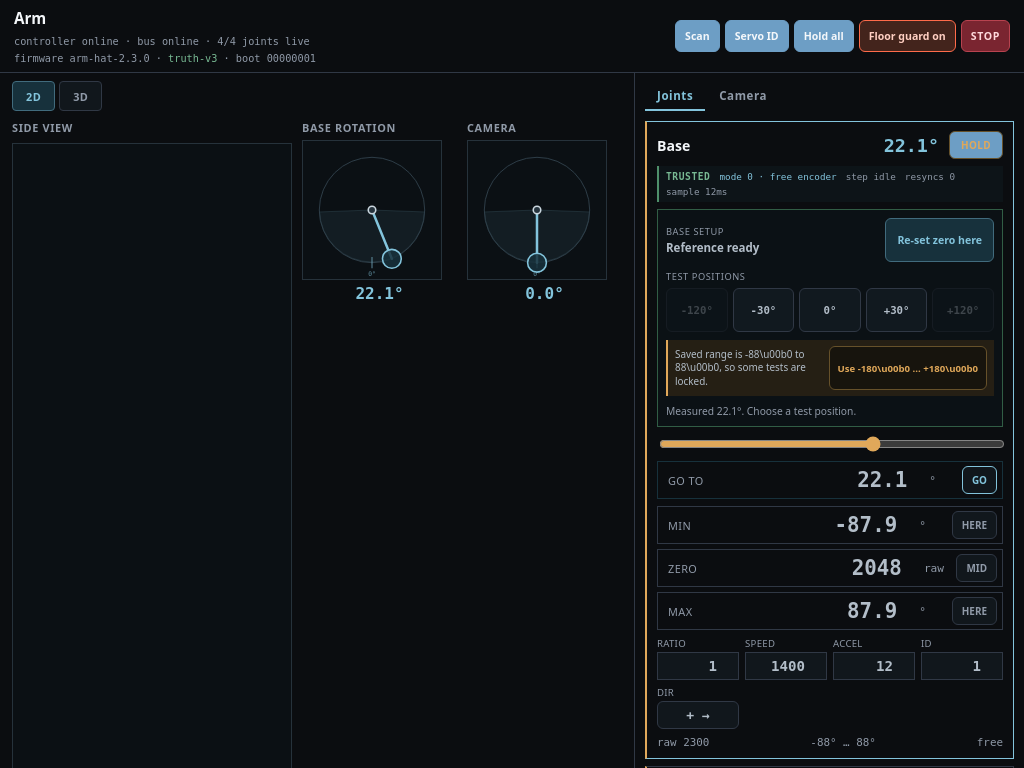
Scenario: SimpleArm › offers a one-click range repair when the saved Base range cannot reach both test sides
This screenshot has width=1024, height=768.
Click the button with aria-label "Set Base range to minus 180 through plus 180 degrees" at (908, 368), box x1=828 y1=346 x2=987 y2=390
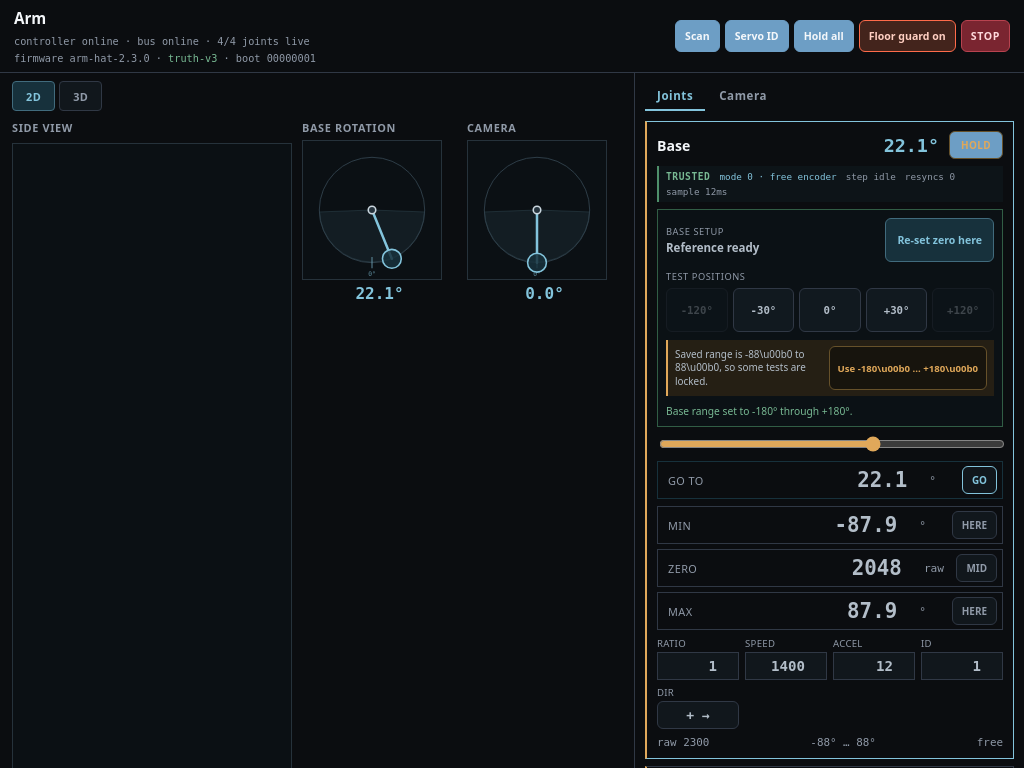
Check: the text "Base range set to -180° through +180°." is shown, box x1=666 y1=404 x2=852 y2=418
